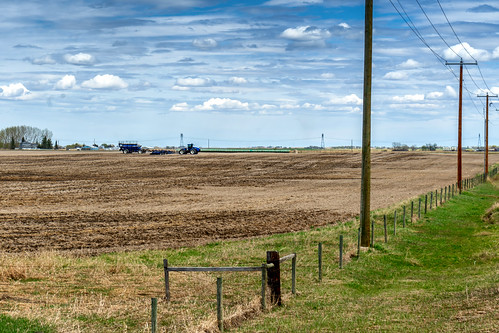dirt: (1, 147, 430, 246)
grass: (15, 185, 493, 333)
sky: (2, 1, 499, 144)
